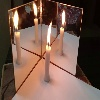fire: (47, 21, 52, 47)
